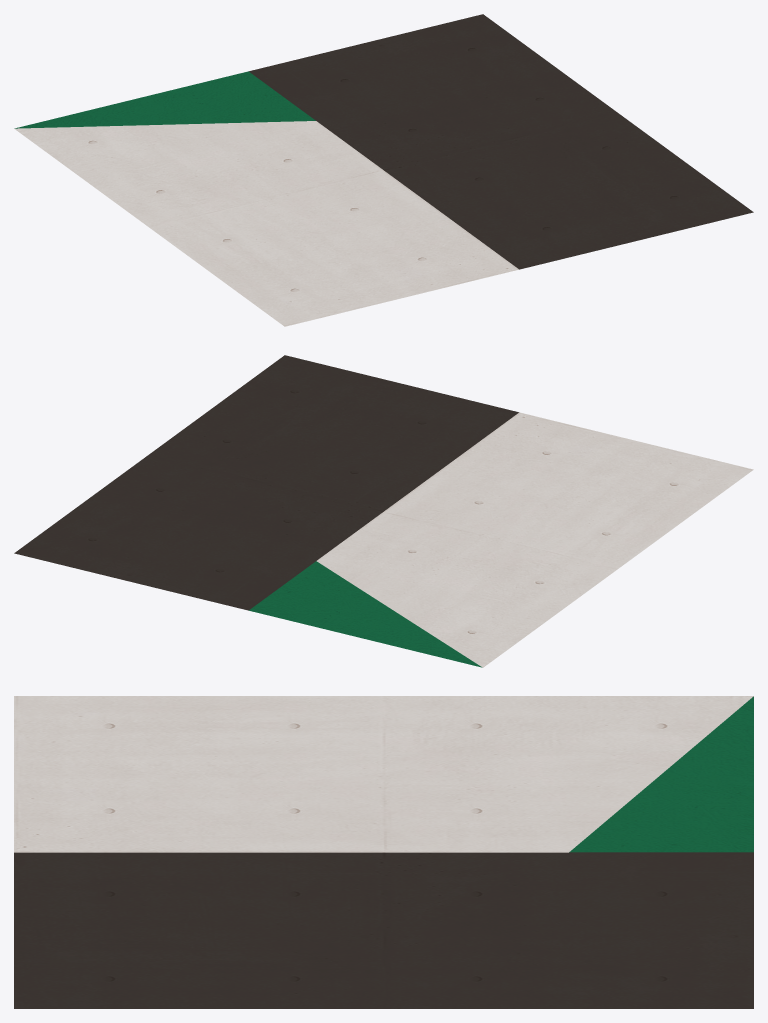
The model's file is VPS_Floor_7.fbx.
3 views of the same model, one above another, from view 1: azimuth 30°, elevation 25°; view 2: azimuth 150°, elevation 25°; view 3: azimuth 270°, elevation 25° (orthographic). The views are drawn at different scales.
Parts seen in each view (by area): view 1: VSP_FLOOR8; view 2: VSP_FLOOR8; view 3: VSP_FLOOR8.
Part boxes in pixels (bbox=[...]): VSP_FLOOR8: bbox=[14, 14, 753, 326]; VSP_FLOOR8: bbox=[14, 355, 753, 667]; VSP_FLOOR8: bbox=[14, 696, 753, 1008].
Bounding box in the file's own units: 4 × 8.88e-16 × 4.
3 materials, 3 textured.
